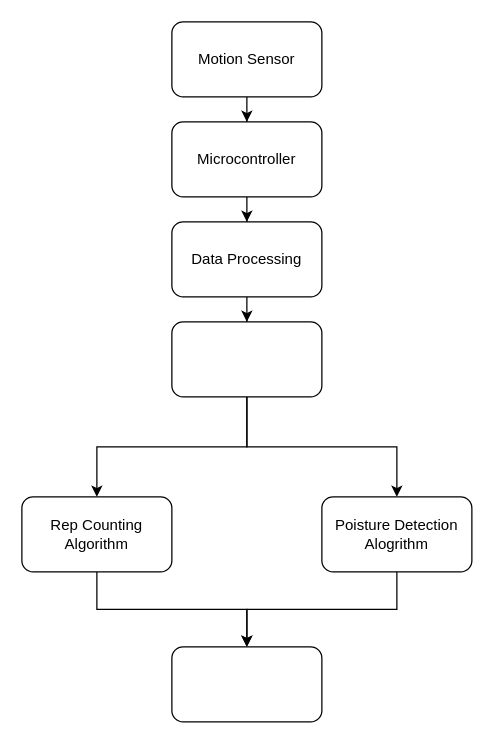
The diagram is 494 pixels wide and 744 high, and some of its shapes have lost their labels. Here are the shapes that lost their labels. From the top down, the centre of each, then its label:
pixel 246 359: KNN Model
pixel 246 684: Feedback System
